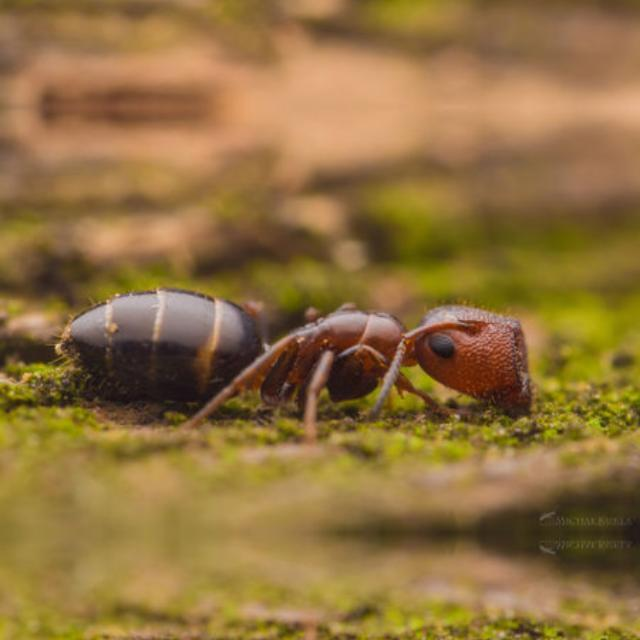Colobopsis: (51, 259, 542, 441)
